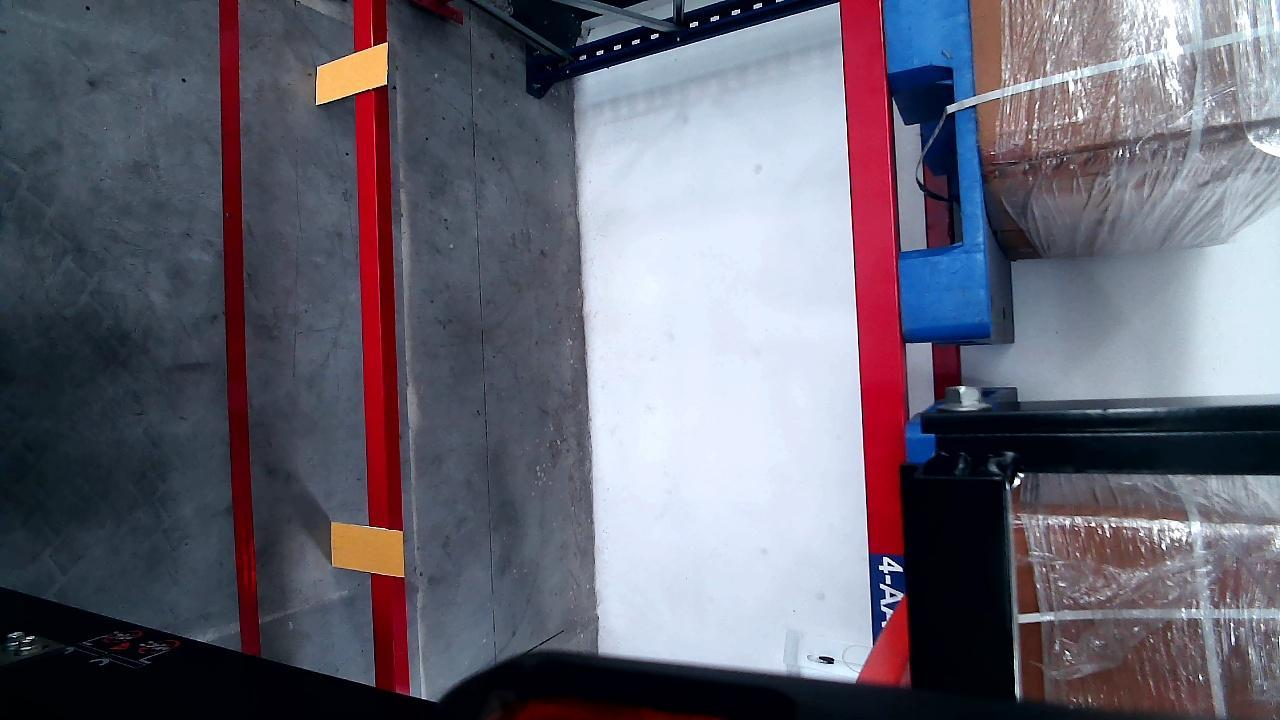red_line: (218, 0, 258, 679)
